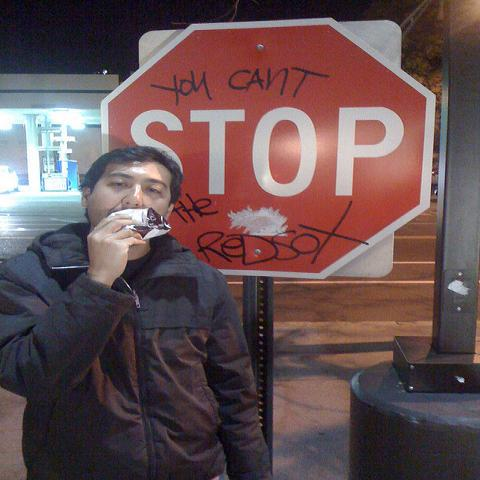car: (0, 166, 19, 192)
